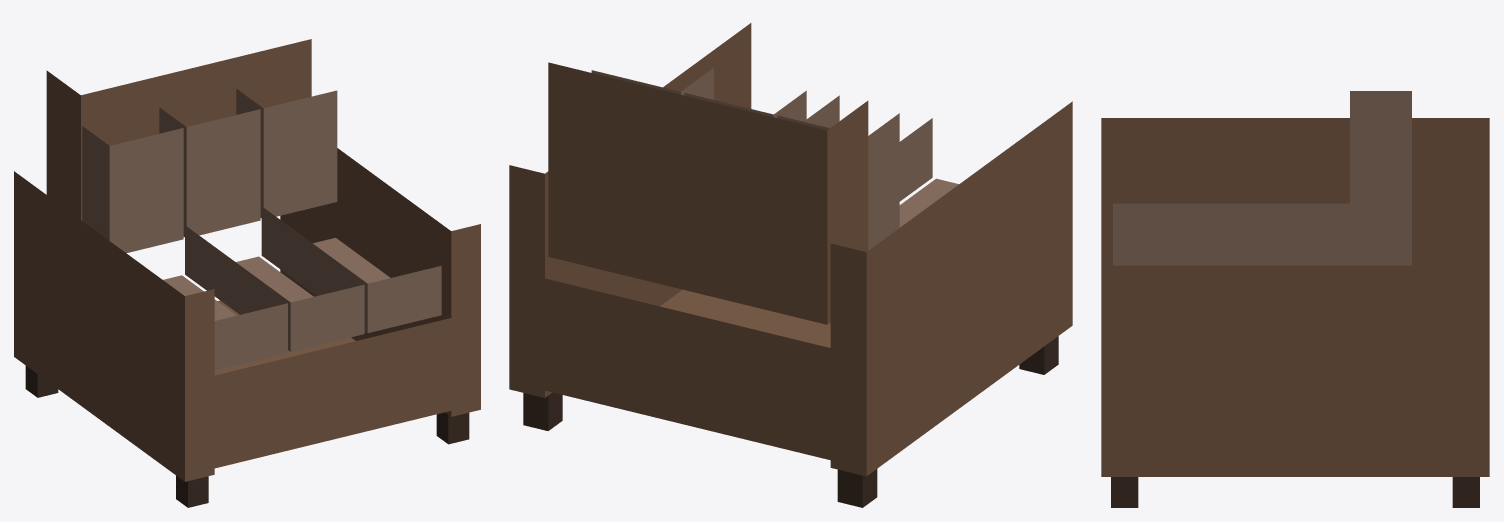
Rendered from Sofa-brown.glb.
3 views of the same model, side by side, from view 1: azimuth 30°, elevation 25°; view 2: azimuth 150°, elevation 25°; view 3: azimuth 270°, elevation 25° (orthographic). The views are drawn at different scales.
Parts seen in each view (by area): view 1: Sofa; view 2: Sofa; view 3: Sofa.
Part boxes in pixels (box(x1,y1,x2,y2)): Sofa: box(14, 39, 480, 507); Sofa: box(509, 23, 1072, 507); Sofa: box(1101, 91, 1489, 507).
Size of the model in its own units: 1 by 1 by 1.
